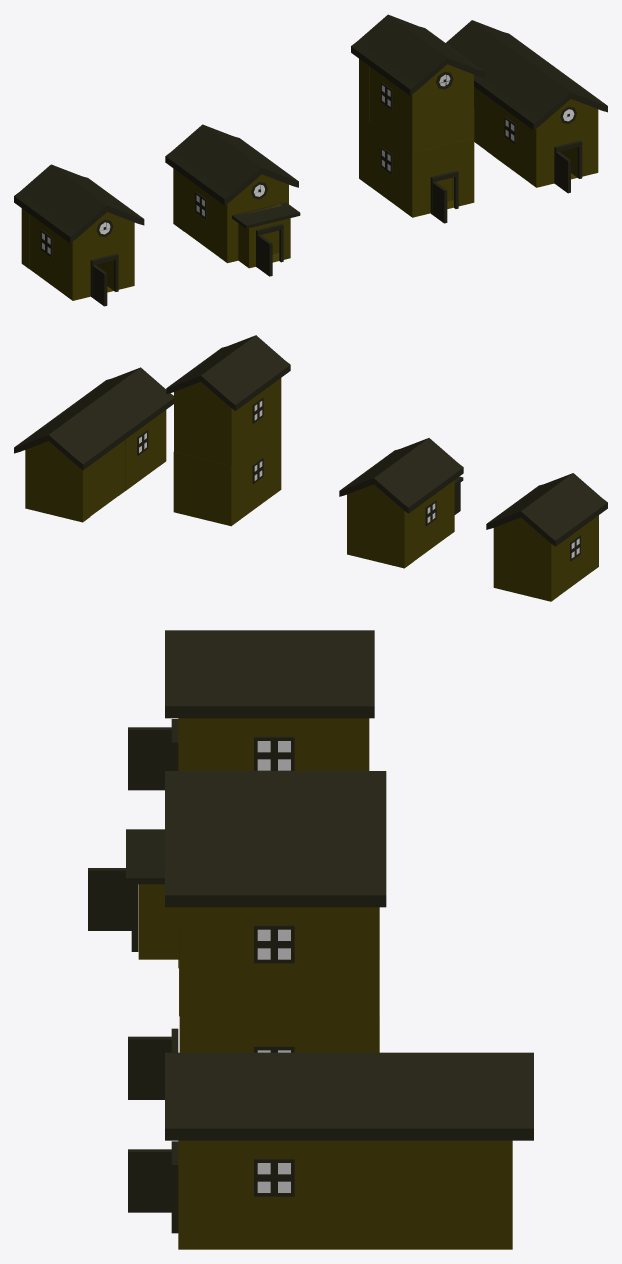
File: modular_houses.fbx
3 renders of one model, top to bottom at view 1: azimuth 30°, elevation 25°; view 2: azimuth 150°, elevation 25°; view 3: azimuth 270°, elevation 25°, orthographic. The views are drawn at different scales.
Visible parts, largest first — view 1: Cube.025, Cube.043, Cube.029, Cube.018, Cube.006, Cube.039, Cube, Cube.007, Cube.034, Cube.045, Cube.003, Cube.031 (+14 smaller); view 2: Cube.043, Cube.018, Cube.029, Cube.027, Cube.016, Cube.004, Cube.006, Cube.036, Cube.041, Cube.048, Cube.034, Cube.045 (+7 smaller); view 3: Cube.043, Cube.029, Cube.006, Cube.047, Cube.028, Cube.042, Cube.018, Cube.005, Cube.035, Cube.027, Cube.025, Cube.039 (+13 smaller).
Part boxes in pixels (x1,y1,x2,y2): Cube.025: (404, 64, 474, 217); Cube.043: (446, 20, 607, 130); Cube.029: (351, 14, 484, 95); Cube.018: (165, 124, 298, 205); Cube.006: (14, 164, 144, 243); Cube.039: (528, 99, 598, 187); Cube: (65, 212, 134, 300); Cube.007: (219, 174, 288, 263); Cube.034: (369, 121, 404, 211); Cube.045: (493, 101, 528, 181); Cube.003: (29, 214, 64, 294); Cube.031: (369, 66, 404, 146); Cube.043: (14, 367, 173, 470); Cube.018: (339, 438, 463, 513); Cube.029: (166, 335, 290, 410); Cube.027: (174, 381, 241, 465); Cube.016: (347, 484, 414, 568); Cube.004: (493, 517, 558, 601); Cube.006: (486, 473, 607, 546); Cube.036: (173, 452, 241, 526); Cube.041: (25, 441, 90, 522); Cube.048: (90, 440, 125, 516); Cube.034: (241, 435, 273, 518); Cube.045: (125, 415, 158, 490); Cube.043: (165, 1052, 533, 1140); Cube.029: (165, 819, 386, 907); Cube.006: (165, 630, 374, 718); Cube.047: (340, 1140, 485, 1249); Cube.028: (207, 907, 340, 1016); Cube.042: (207, 1140, 340, 1249); Cube.018: (165, 771, 386, 819); Cube.005: (207, 718, 340, 770); Cube.035: (209, 1016, 340, 1052); Cube.027: (341, 907, 379, 1016); Cube.025: (179, 907, 208, 1052); Cube.039: (171, 1140, 207, 1249).
Bounding box in the file's own units: 1740 × 481 × 670.
